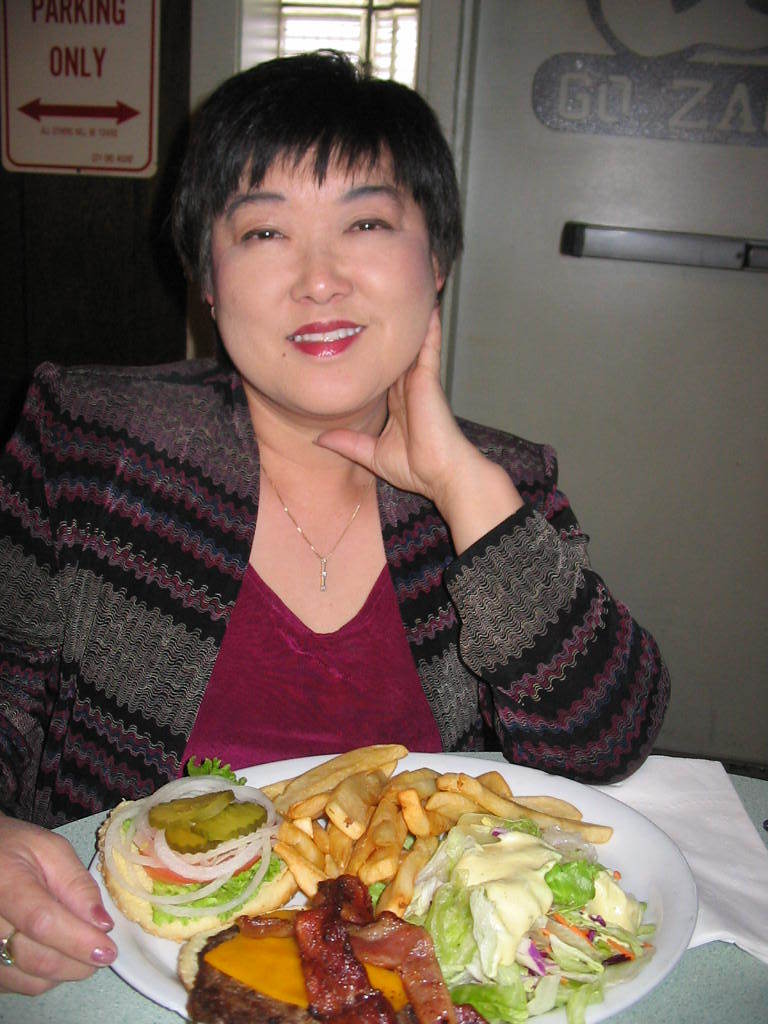French fries: (248, 728, 616, 928)
